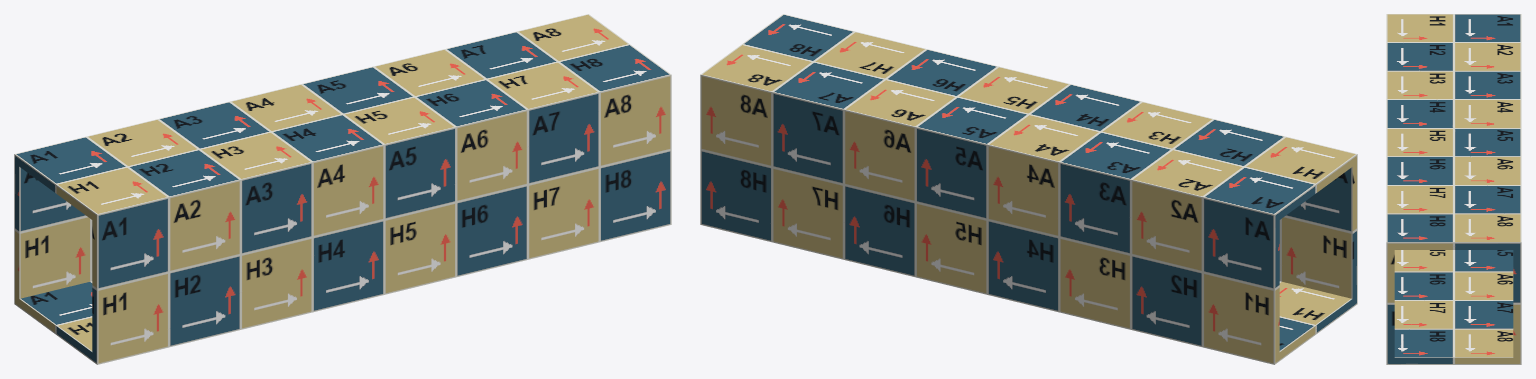
File: DUCT_Square_2m.fbx
The picture shows the model from 3 angles, left to right: view 1: azimuth 30°, elevation 25°; view 2: azimuth 150°, elevation 25°; view 3: azimuth 270°, elevation 25°; orthographic projection. The views are drawn at different scales.
Parts seen in each view (by area): view 1: DUCT_Square_2m; view 2: DUCT_Square_2m; view 3: DUCT_Square_2m.
Boxes of the visible parts, bbox=[...] form: DUCT_Square_2m: bbox=[14, 14, 671, 364]; DUCT_Square_2m: bbox=[700, 14, 1357, 364]; DUCT_Square_2m: bbox=[1386, 14, 1521, 364].
Bounding box in the file's own units: 200 × 50 × 50.
Materials: 1 (1 with a texture image).
